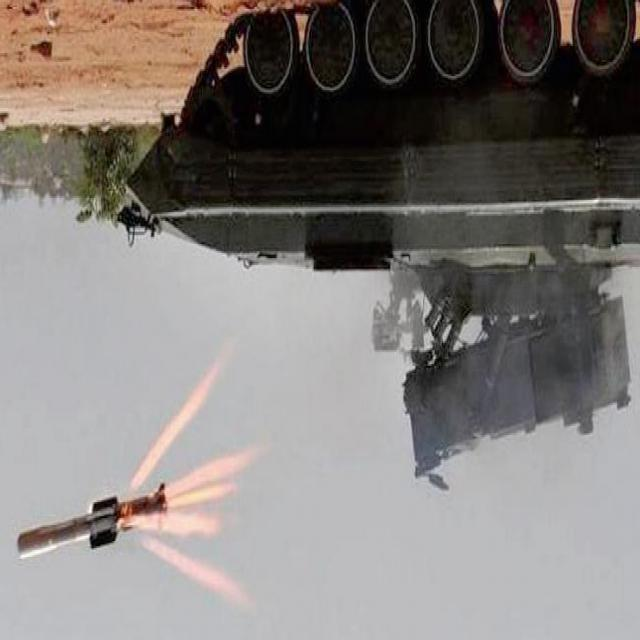missile: (19, 478, 169, 563)
